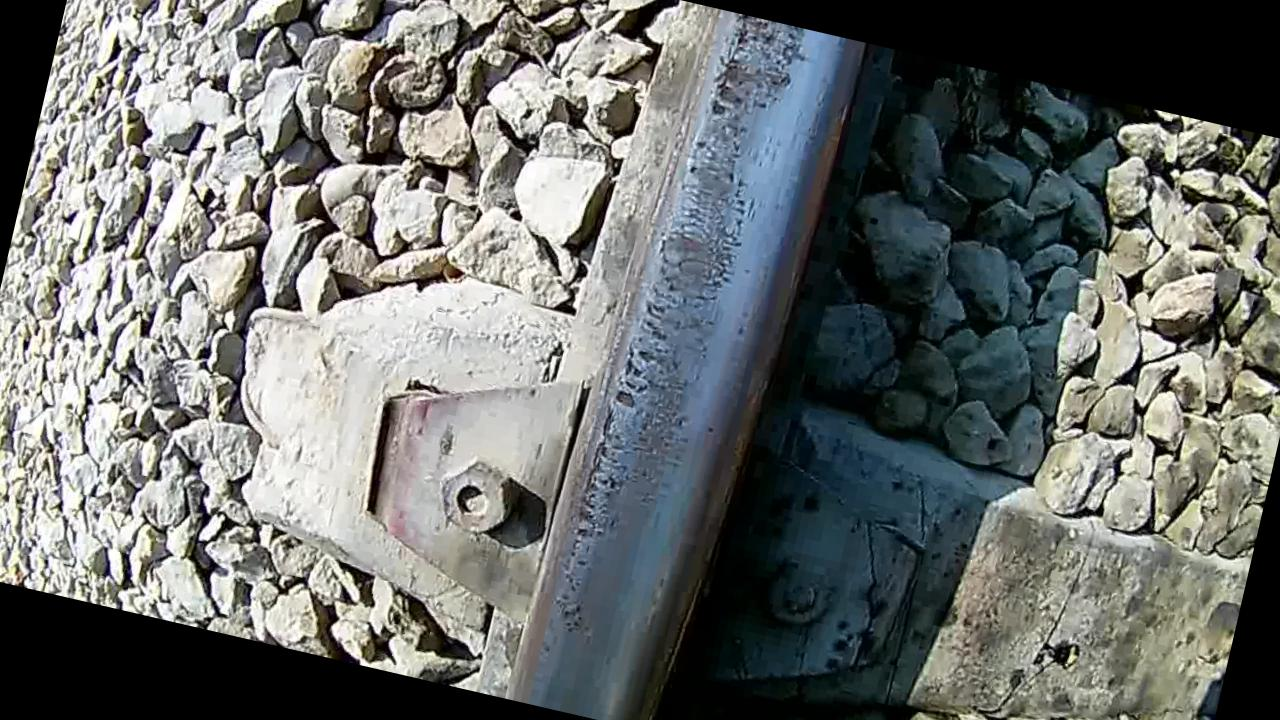crack: (515, 0, 858, 720)
